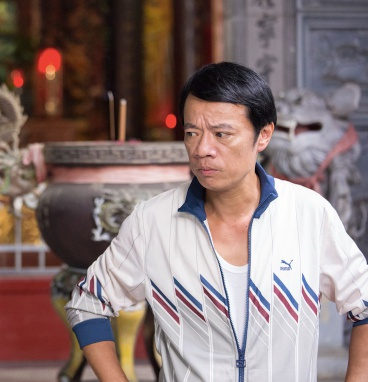male: (176, 55, 282, 198)
